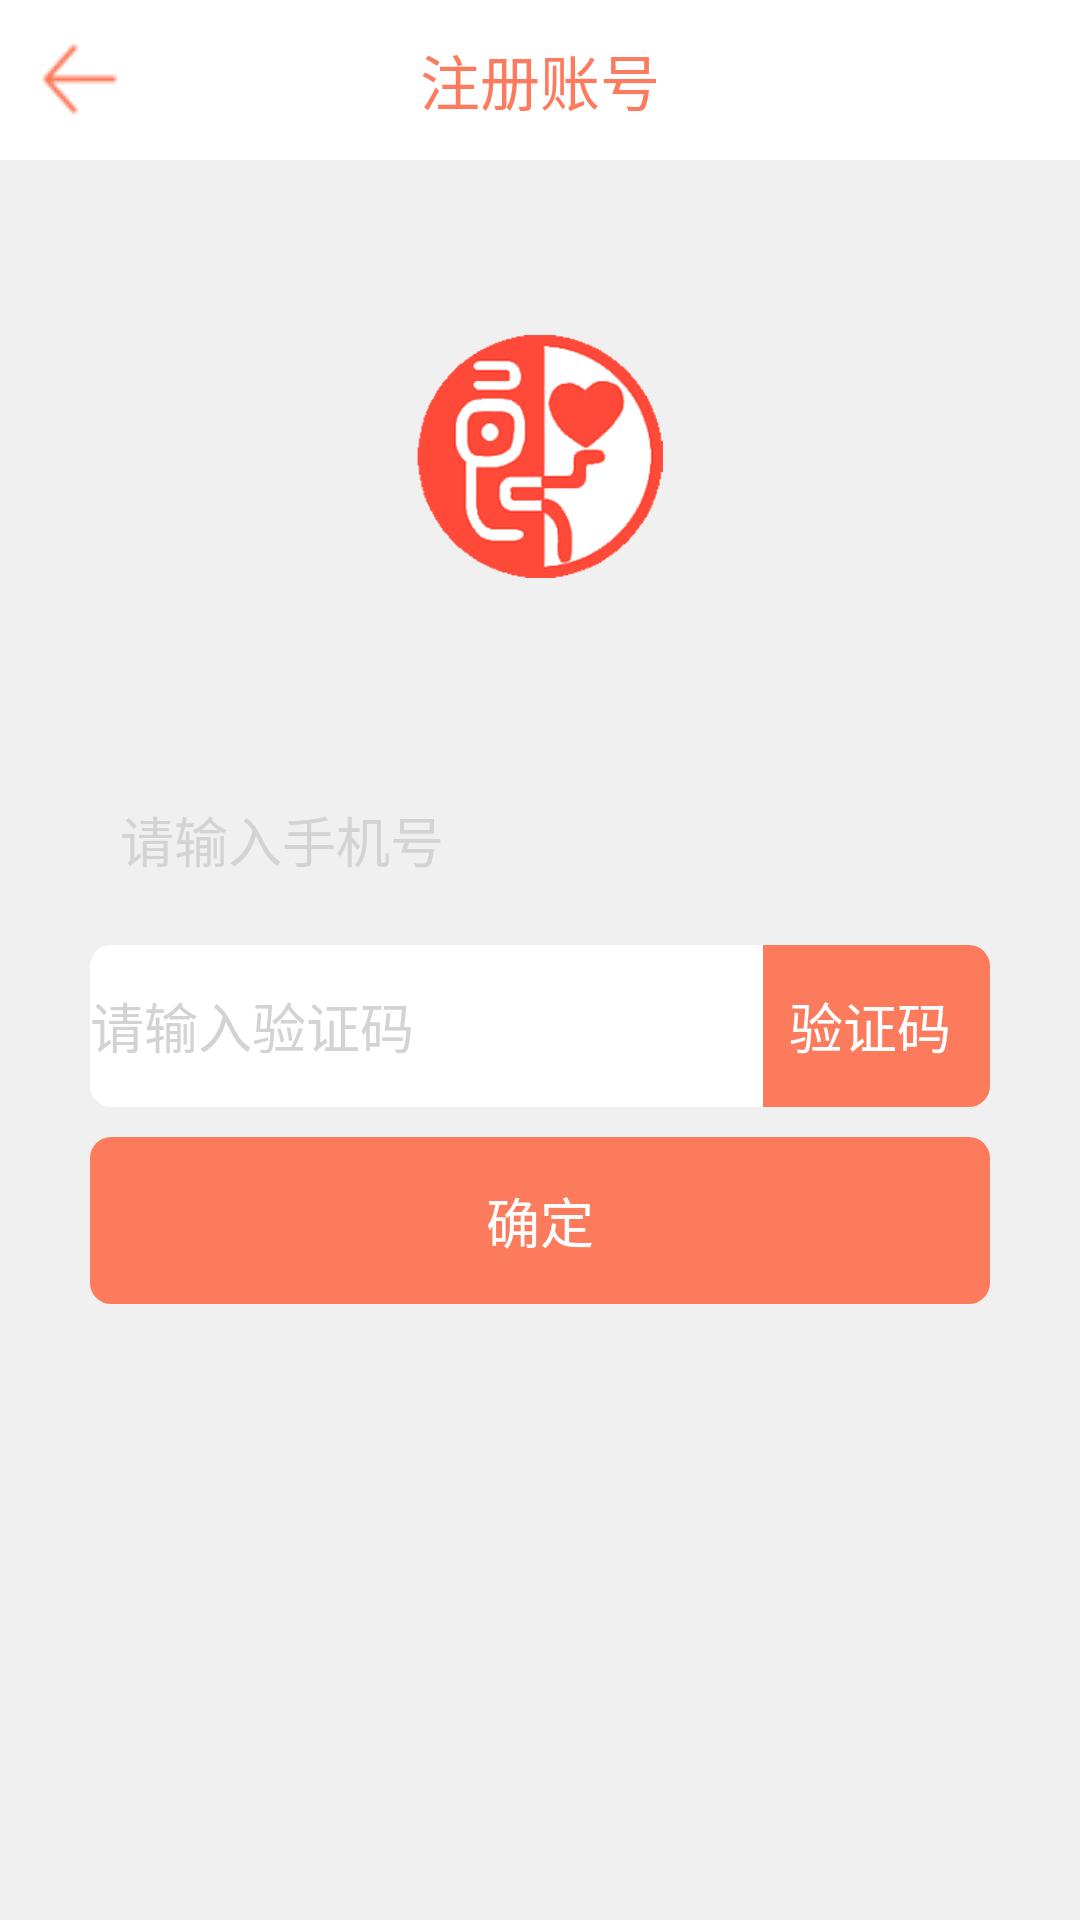

Where to tap for icons on this 1080px x 1920px app screen, as [x,y]:
zuo: [80,79]
